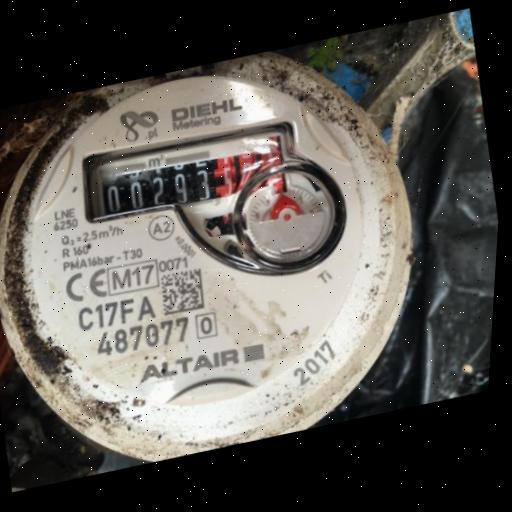0: (230, 149, 263, 195), (121, 170, 151, 213), (99, 175, 126, 218)
1: (255, 135, 285, 171)
2: (144, 167, 171, 209)
3: (190, 158, 218, 204)
5: (213, 154, 241, 198)
9: (167, 161, 195, 206)
border_water_meter_number: (80, 110, 323, 234)
